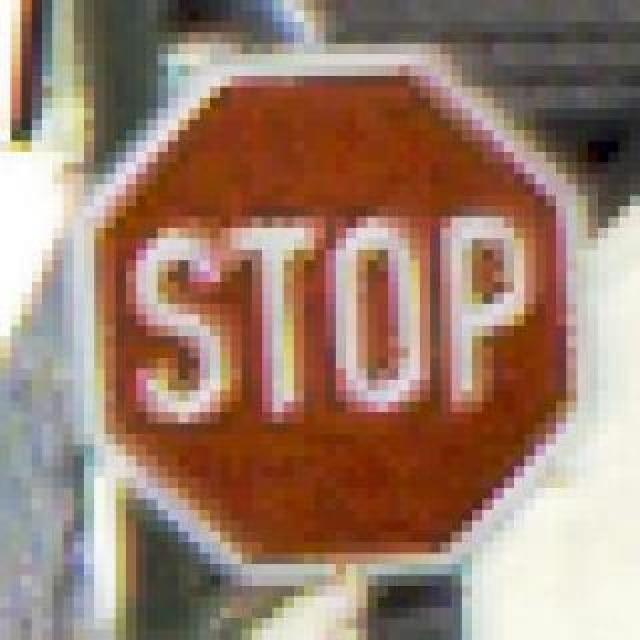stop: (62, 22, 598, 574)
